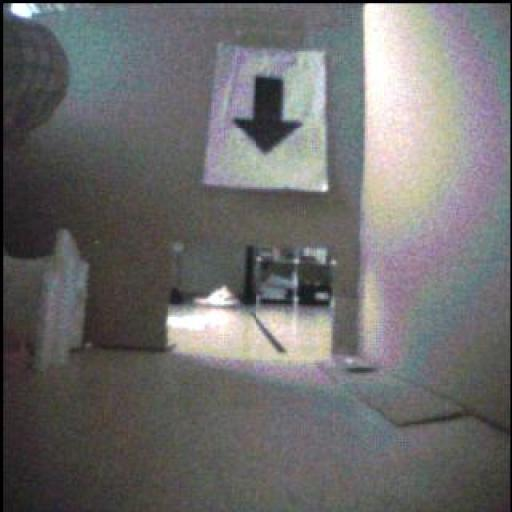arrow: (235, 78, 302, 155)
